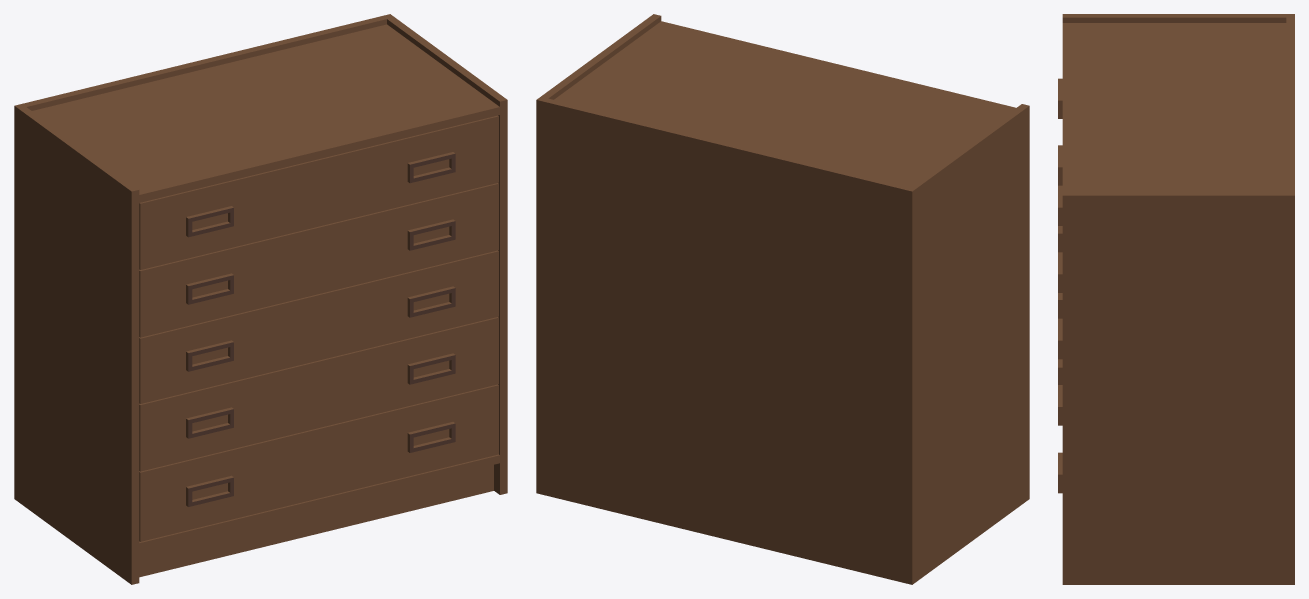
Rendered from chest_of_drawers.glb.
The picture shows the model from 3 angles, left to right: view 1: azimuth 30°, elevation 25°; view 2: azimuth 150°, elevation 25°; view 3: azimuth 270°, elevation 25°; orthographic projection.
Visible parts, largest first — view 1: chest_of_drawers; view 2: chest_of_drawers; view 3: chest_of_drawers.
Boxes of the visible parts, x1=… form: chest_of_drawers: x1=14, y1=14, x2=507, y2=584; chest_of_drawers: x1=536, y1=14, x2=1029, y2=584; chest_of_drawers: x1=1058, y1=14, x2=1294, y2=584.
Bounding box in the file's own units: 37 × 37 × 20.4.
